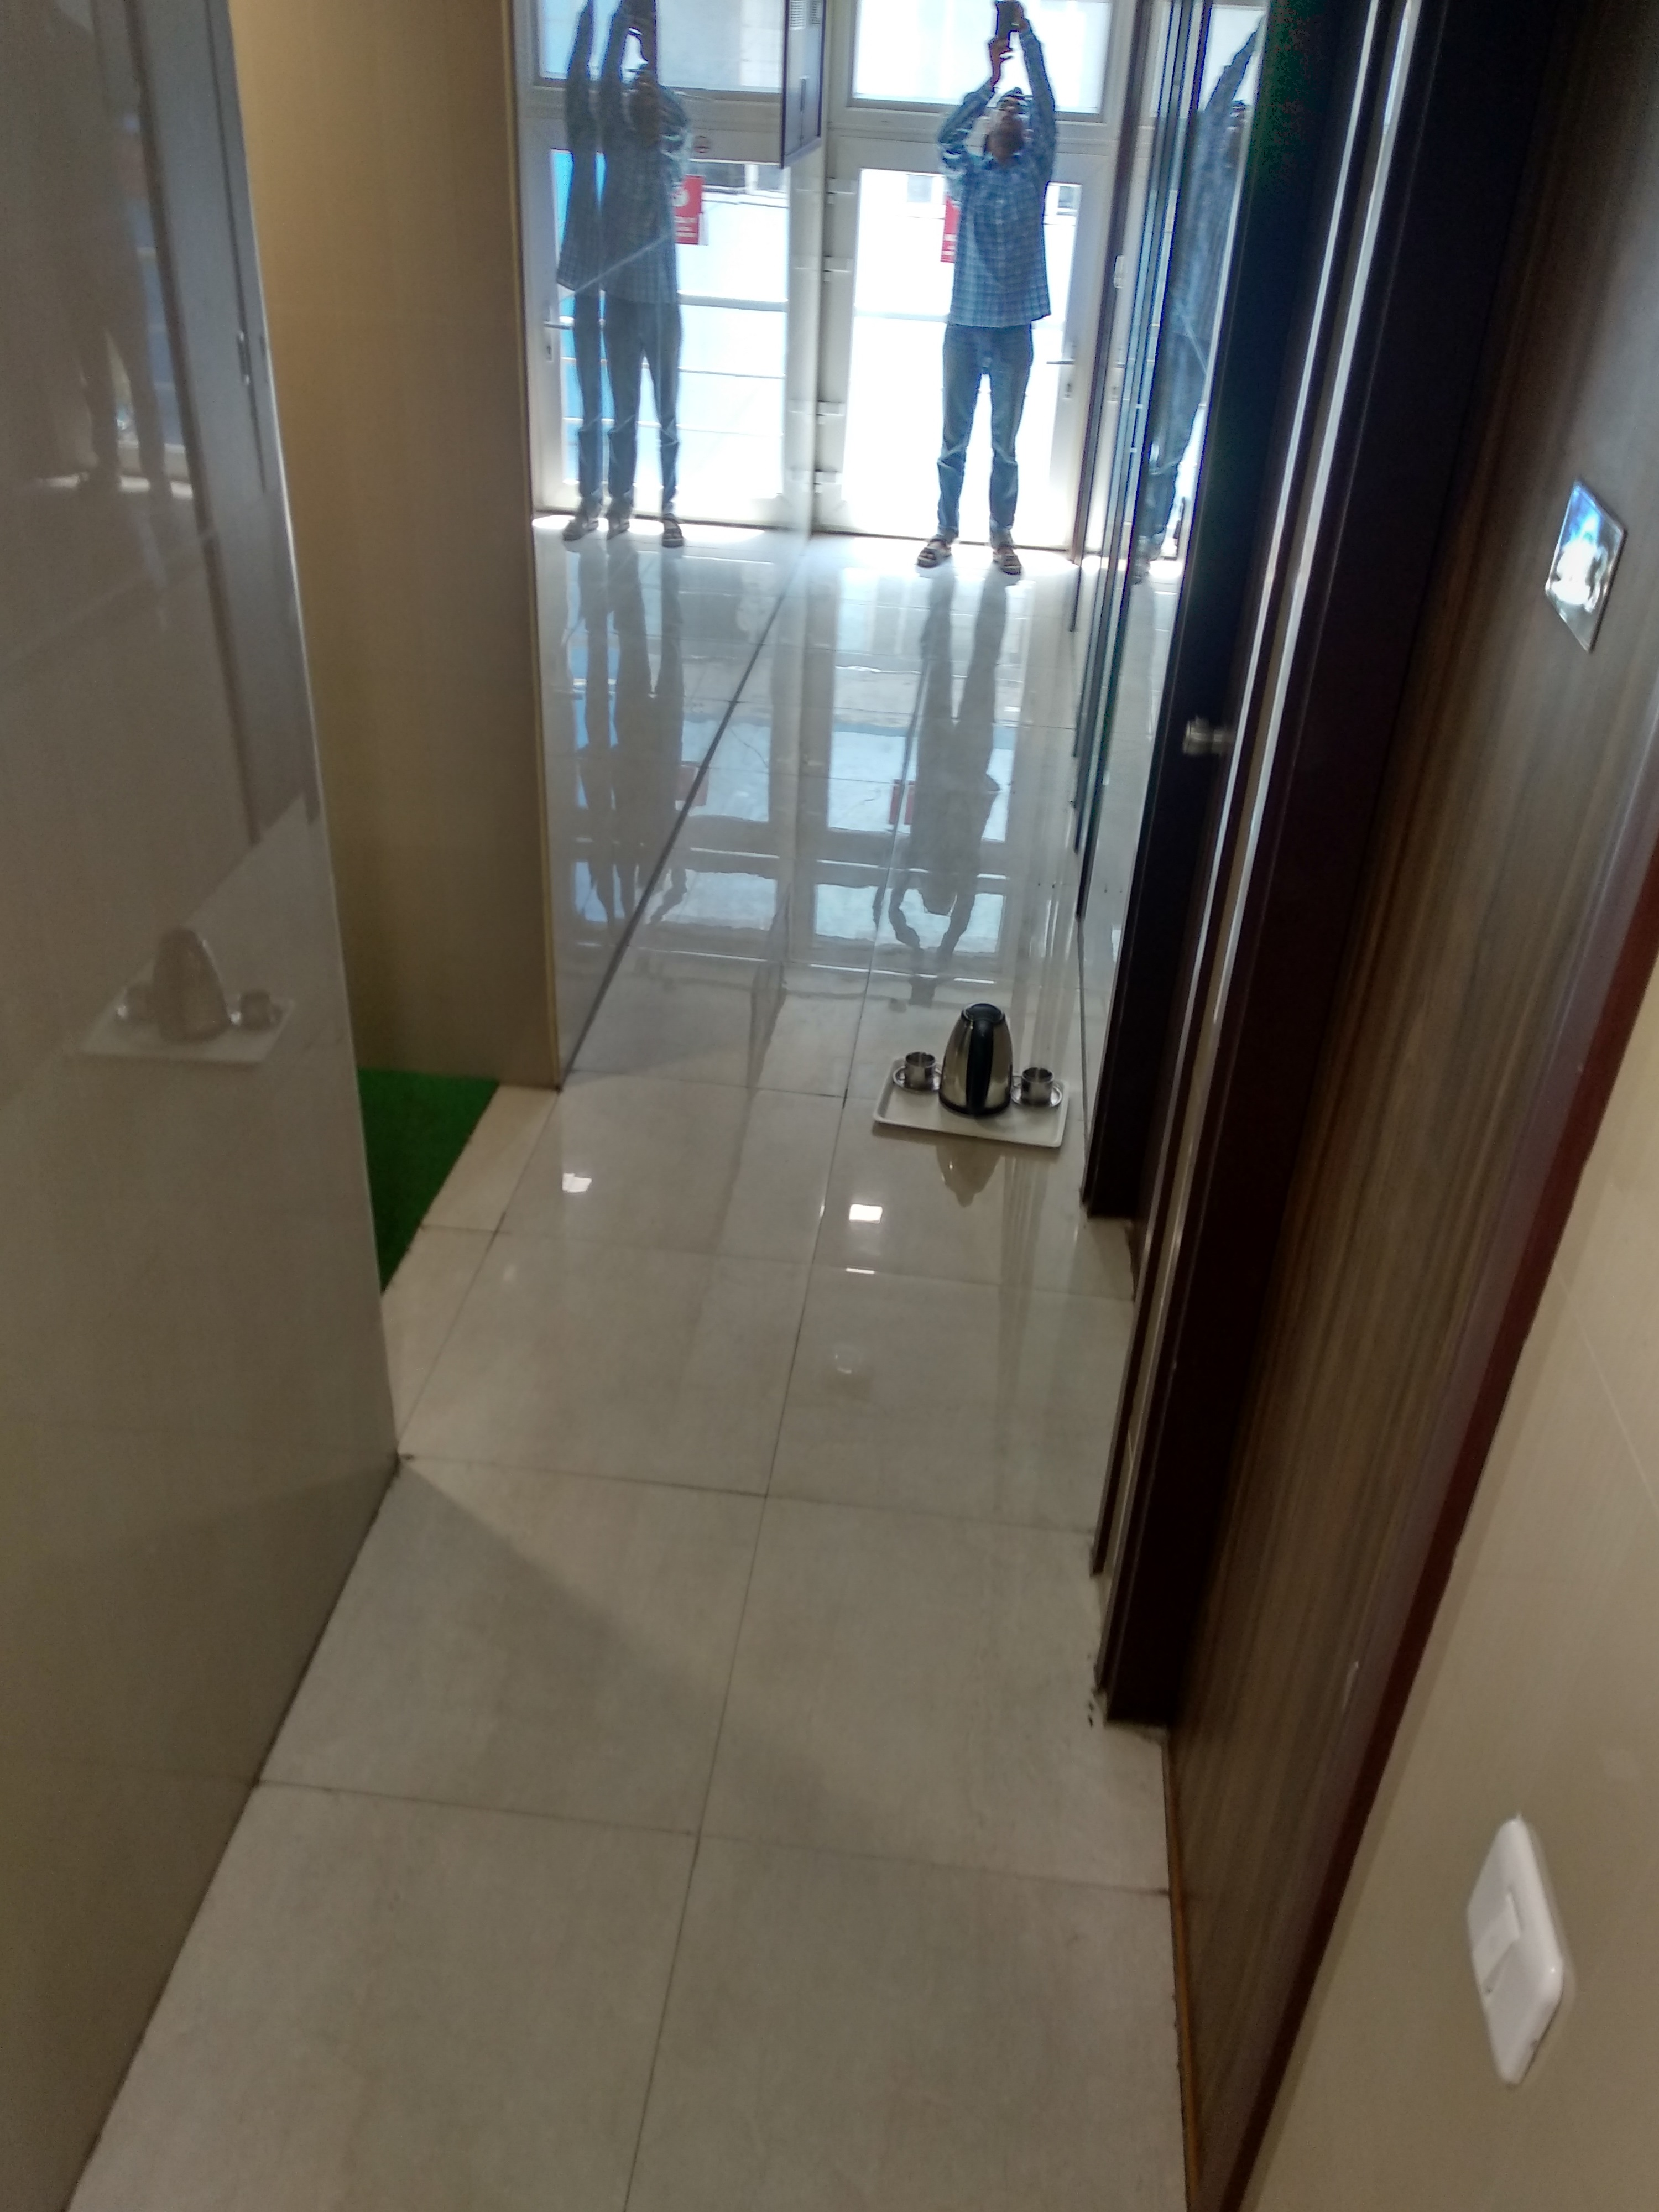CUP: (896, 1049, 941, 1096), (1021, 1064, 1061, 1113)
JUG: (943, 986, 1016, 1122)
